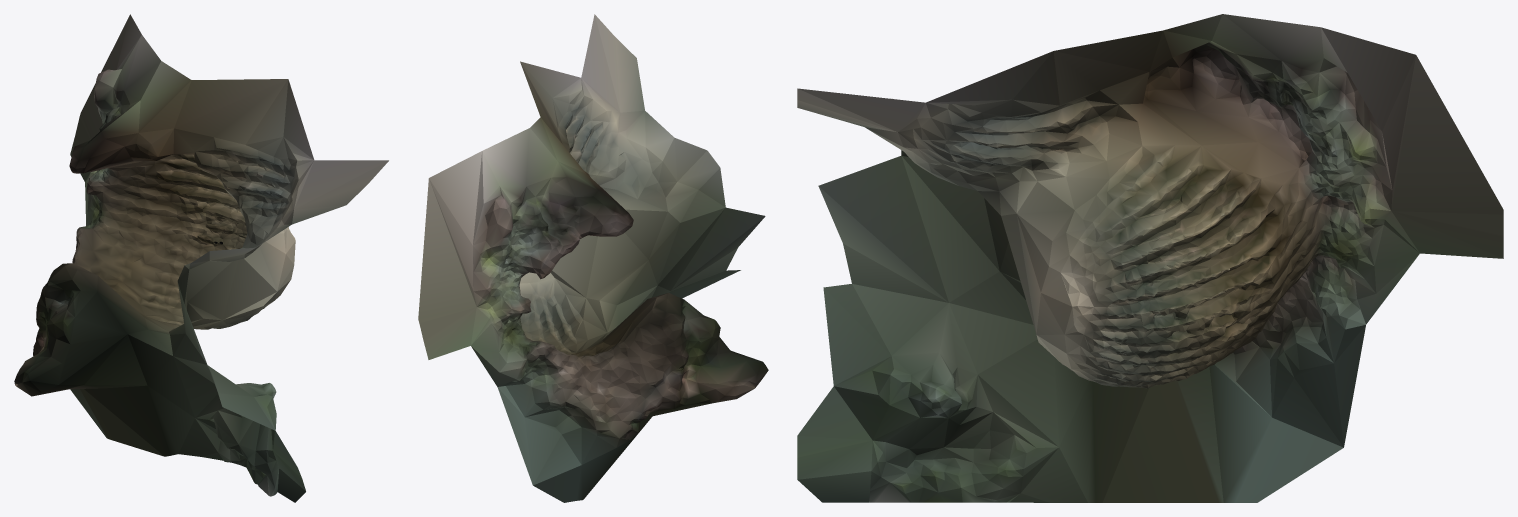
The model's file is Cactus.obj.
The picture shows the model from 3 angles, left to right: view 1: azimuth 30°, elevation 25°; view 2: azimuth 150°, elevation 25°; view 3: azimuth 270°, elevation 25°; orthographic projection. The views are drawn at different scales.
Bounding box in the file's own units: 1.72 × 2.16 × 2.57.
